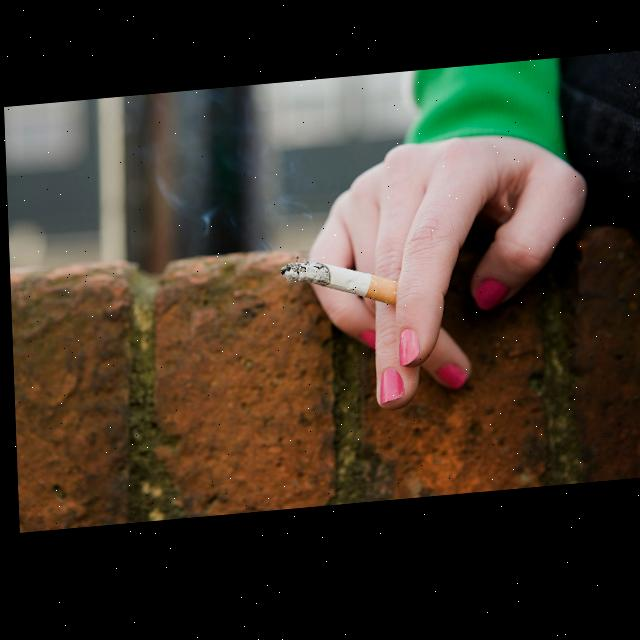cigarette: (278, 254, 396, 322)
